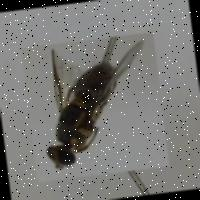Oriental-fruit-fly: (21, 31, 169, 181)
